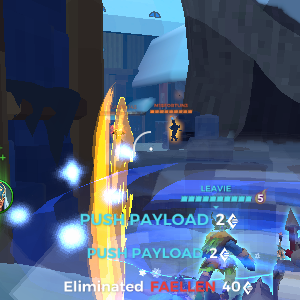model: (164, 116, 184, 145)
